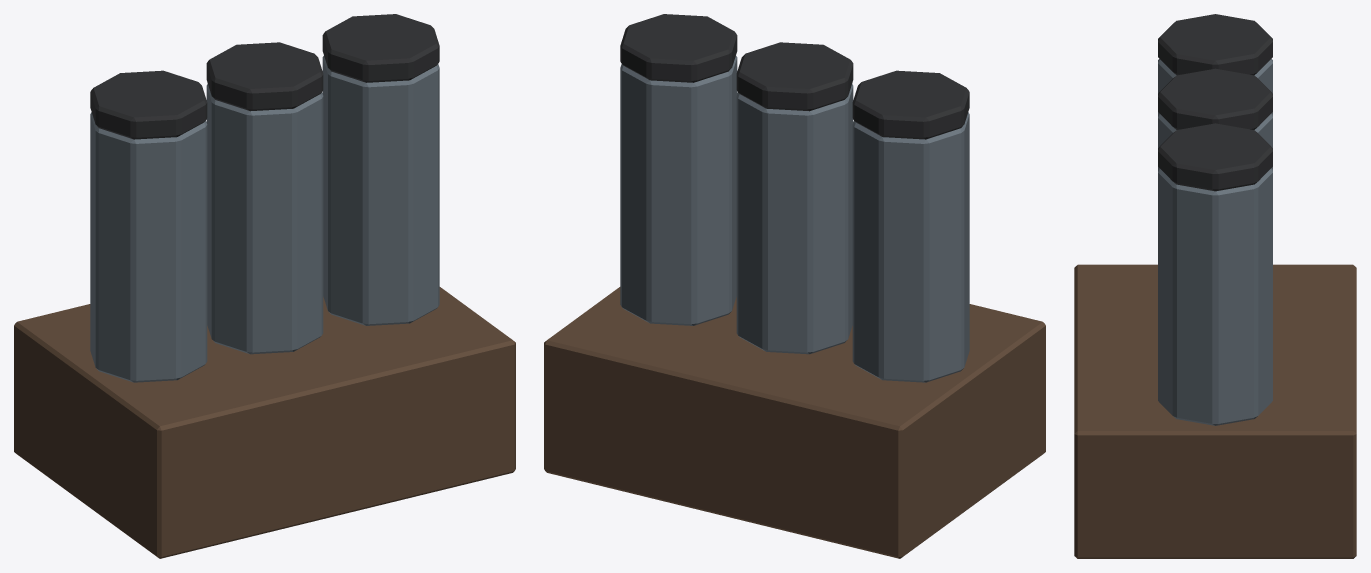
Rendered from Firearm_821.fbx.
3 views of the same model, side by side, from view 1: azimuth 30°, elevation 25°; view 2: azimuth 150°, elevation 25°; view 3: azimuth 270°, elevation 25° (orthographic). The views are drawn at different scales.
Parts seen in each view (by area): view 1: Firearm_821; view 2: Firearm_821; view 3: Firearm_821.
Boxes of the visible parts, x1,y1,x2,y2 form: Firearm_821: [14, 14, 515, 558]; Firearm_821: [544, 14, 1045, 558]; Firearm_821: [1074, 14, 1356, 558].
Bounding box in the file's own units: 0.17 × 0.18 × 0.12.
